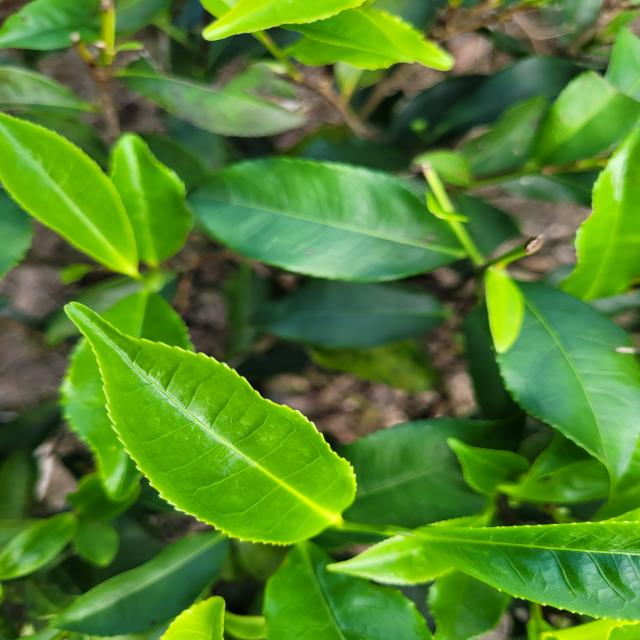Category B(2-4 days): (30, 278, 374, 593)
